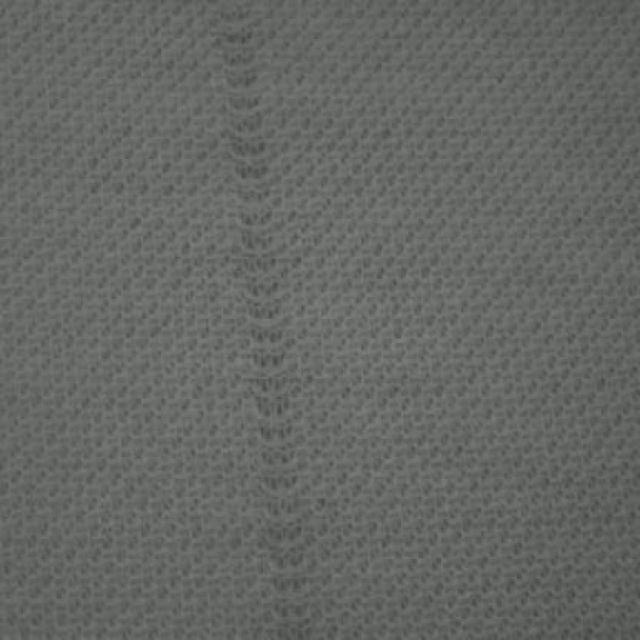Line: (215, 2, 311, 639)
